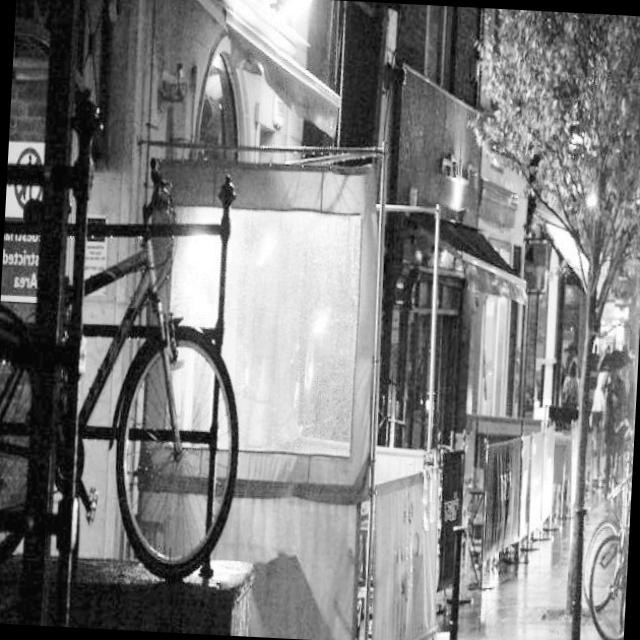Bicycle: (0, 151, 263, 619), (571, 449, 633, 640)
